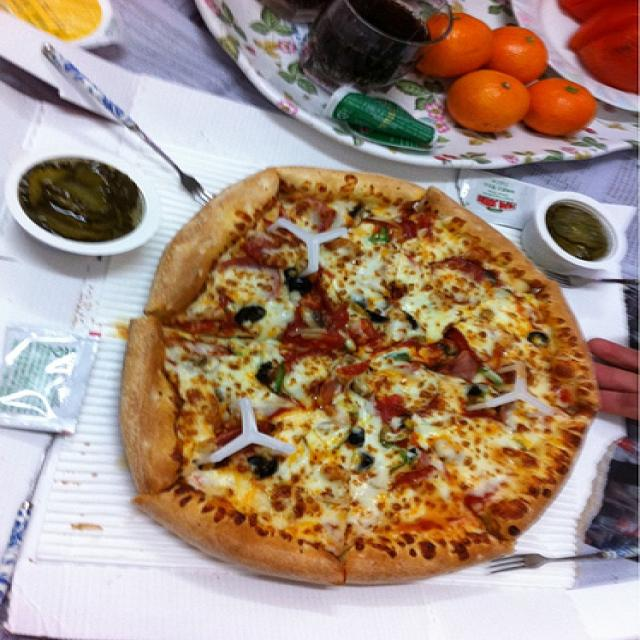Wet Waste: (100, 160, 600, 590)
